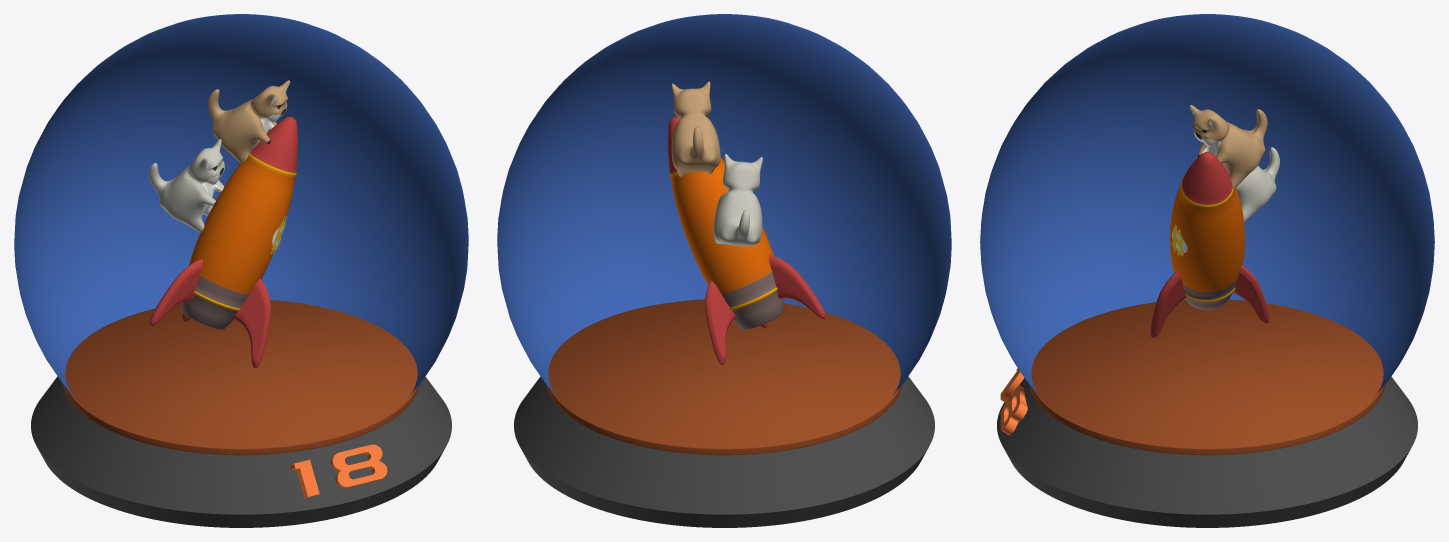
Rendered from Curio_18.glb.
3 views of the same model, side by side, from view 1: azimuth 30°, elevation 25°; view 2: azimuth 150°, elevation 25°; view 3: azimuth 270°, elevation 25° (orthographic).
Parts seen in each view (by area): view 1: Sphere.062, Sphere.061, Sphere.060, Cylinder.017, Text.025; view 2: Sphere.062, Sphere.061, Sphere.060, Cylinder.017; view 3: Sphere.062, Sphere.061, Sphere.060, Cylinder.017, Text.025.
Part boxes in pixels (x1=…): Sphere.062: x1=14, y1=14, x2=468, y2=397; Sphere.061: x1=63, y1=300, x2=419, y2=455; Sphere.060: x1=31, y1=376, x2=451, y2=527; Cylinder.017: x1=149, y1=80, x2=297, y2=368; Text.025: x1=290, y1=444, x2=387, y2=498; Sphere.062: x1=497, y1=14, x2=951, y2=397; Sphere.061: x1=546, y1=299, x2=902, y2=455; Sphere.060: x1=514, y1=376, x2=934, y2=527; Cylinder.017: x1=668, y1=81, x2=825, y2=365; Sphere.062: x1=980, y1=14, x2=1434, y2=395; Sphere.061: x1=1029, y1=299, x2=1385, y2=455; Sphere.060: x1=997, y1=376, x2=1417, y2=527; Cylinder.017: x1=1150, y1=105, x2=1279, y2=338; Text.025: x1=1000, y1=368, x2=1027, y2=435.
Bounding box in the file's own units: 4.66 × 4.62 × 4.66.
